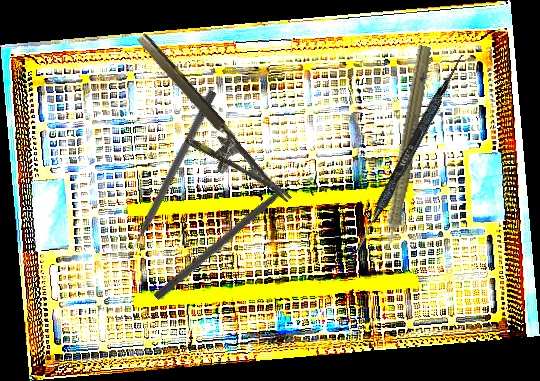Handpiece: (372, 43, 435, 266)
Needle Holder: (114, 30, 293, 227)
Pusher: (152, 170, 308, 303), (121, 88, 218, 263)
Spatula Surgical: (348, 50, 466, 263)
